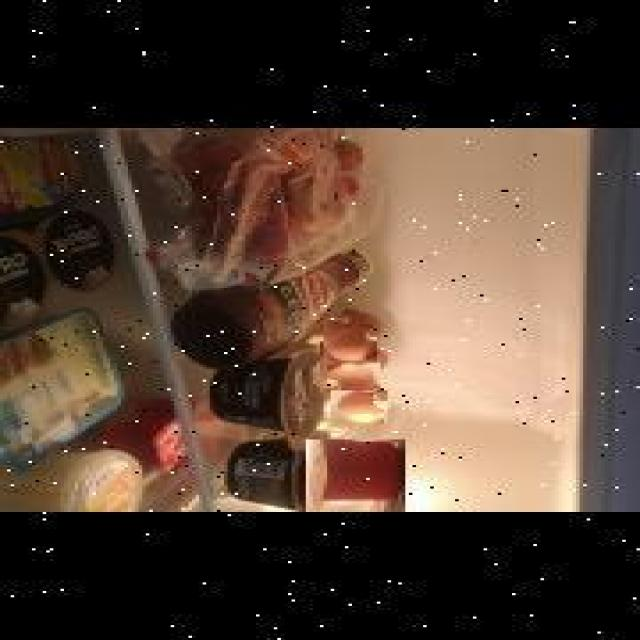egg: (320, 324, 373, 363), (327, 390, 384, 424), (316, 362, 377, 392)
yogurt: (202, 344, 324, 454), (302, 439, 402, 512), (0, 136, 75, 222)
